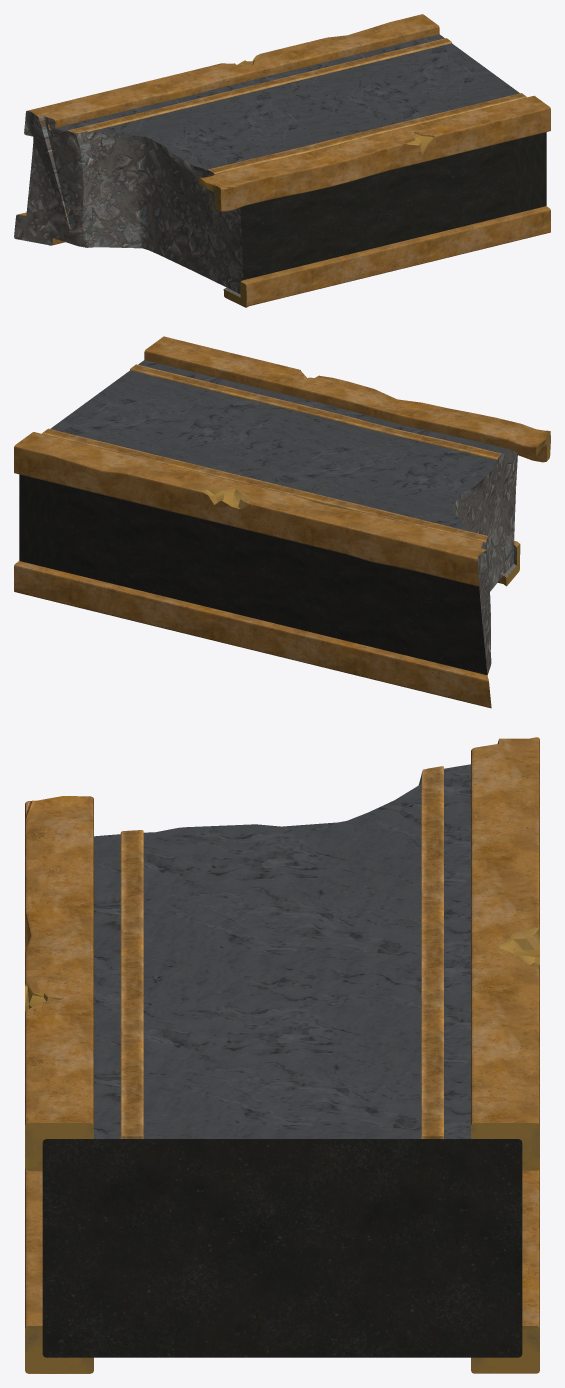
3 views of the same model, one above another, from view 1: azimuth 30°, elevation 25°; view 2: azimuth 150°, elevation 25°; view 3: azimuth 270°, elevation 25° (orthographic). The views are drawn at different scales.
Parts seen in each view (by area): view 1: SM_Kuldras_Arena_BridgePiece_01_LOD0; view 2: SM_Kuldras_Arena_BridgePiece_01_LOD0; view 3: SM_Kuldras_Arena_BridgePiece_01_LOD0.
Boxes of the visible parts, x1,y1,x2,y2 form: SM_Kuldras_Arena_BridgePiece_01_LOD0: (14, 14, 550, 307); SM_Kuldras_Arena_BridgePiece_01_LOD0: (14, 336, 550, 708); SM_Kuldras_Arena_BridgePiece_01_LOD0: (25, 737, 539, 1373).
Size of the model in its own units: 21.67 by 6.45 by 11.84.
Materials: 5 (5 with a texture image).
